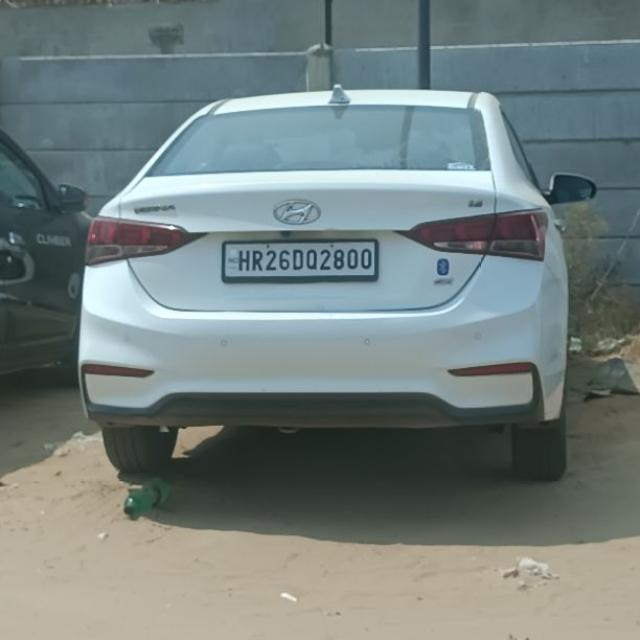license_plate: (220, 238, 378, 282)
